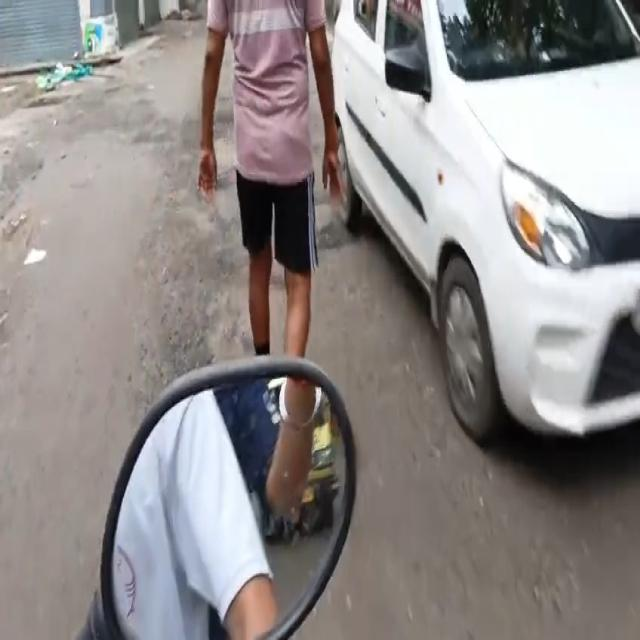road-pothole: (135, 209, 234, 380), (62, 79, 152, 137)
